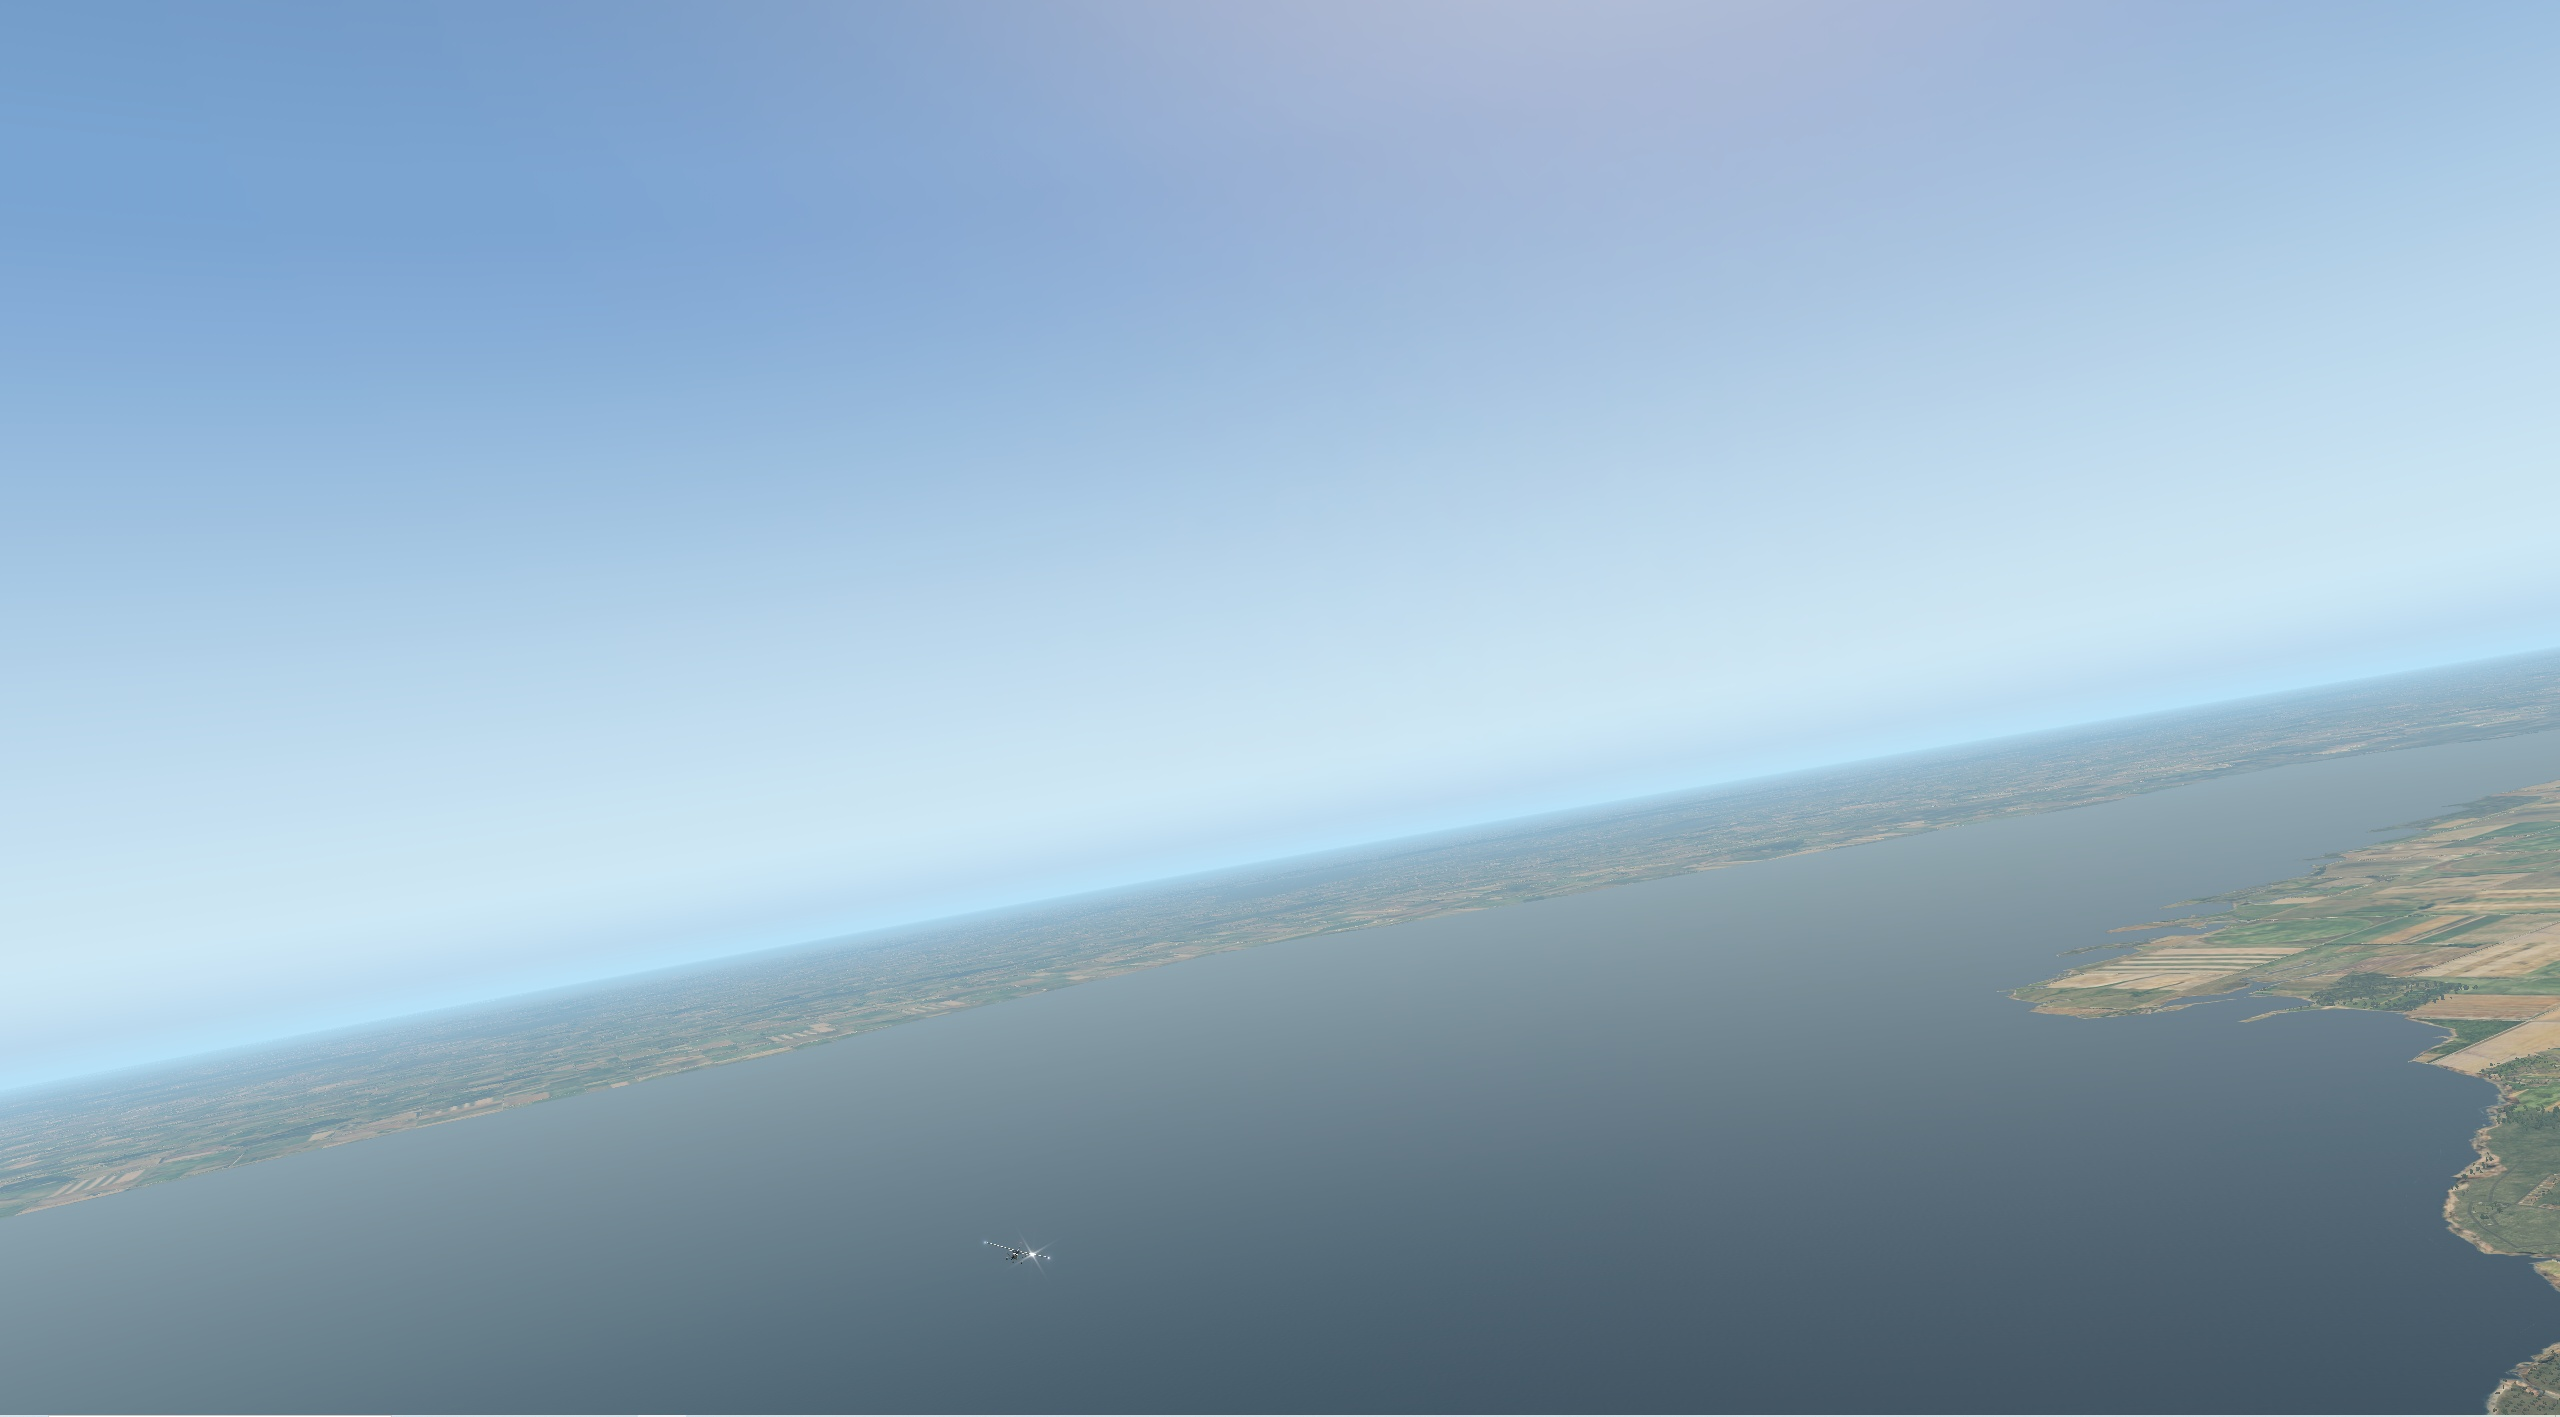aircraft: (979, 1241, 1052, 1269)
